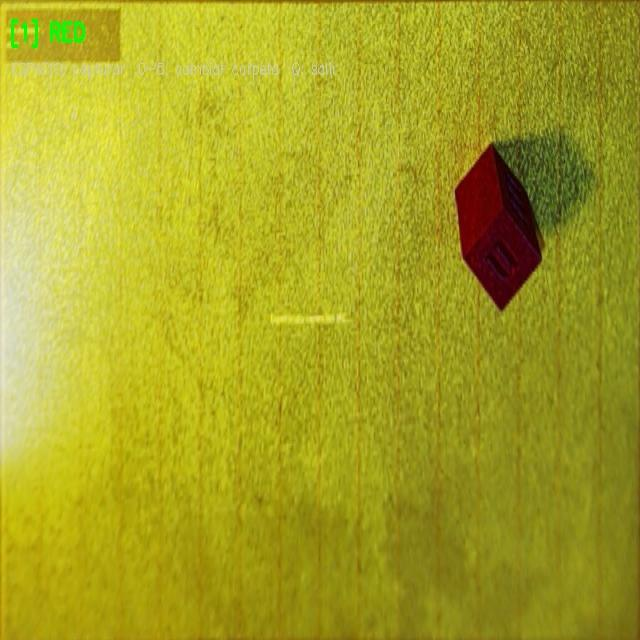red: (456, 144, 540, 307)
